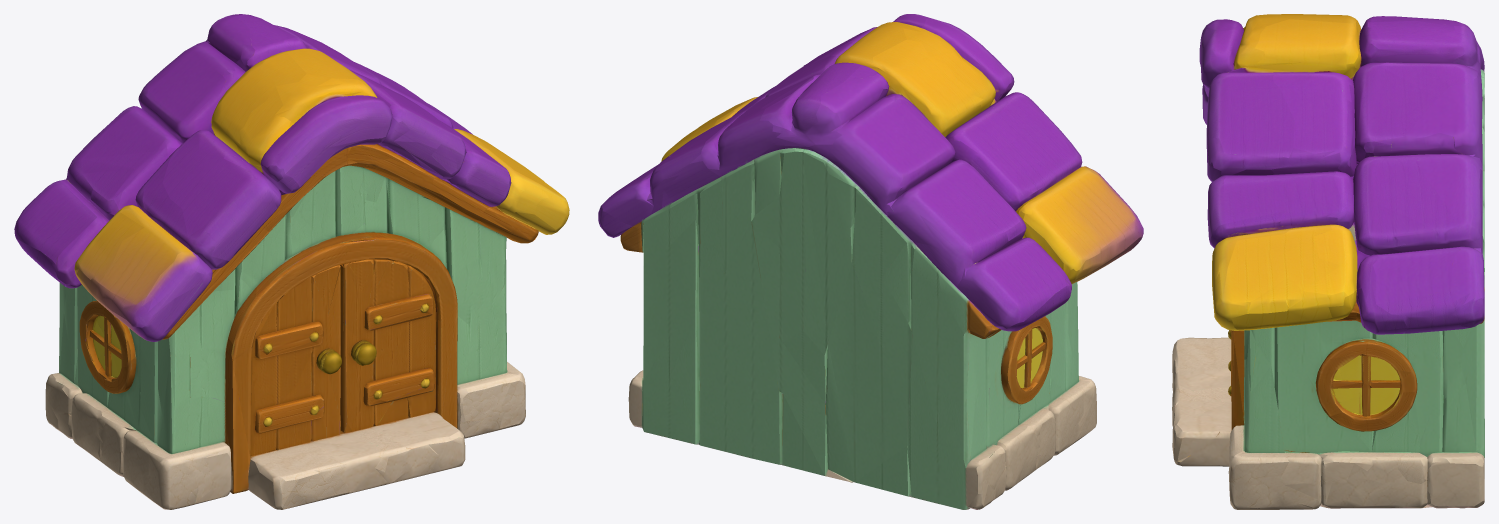
3 views of the same model, side by side, from view 1: azimuth 30°, elevation 25°; view 2: azimuth 150°, elevation 25°; view 3: azimuth 270°, elevation 25° (orthographic). The views are drawn at different scales.
Parts seen in each view (by area): view 1: island-garden-hut-v1-1; view 2: island-garden-hut-v1-1; view 3: island-garden-hut-v1-1.
Part boxes in pixels (x1,y1,x2,y2): island-garden-hut-v1-1: [14, 14, 569, 509]; island-garden-hut-v1-1: [598, 14, 1143, 509]; island-garden-hut-v1-1: [1172, 14, 1484, 509].
Bounding box in the file's own units: 3.07 × 2.5 × 1.8.
Materials: 1 (1 with a texture image).
